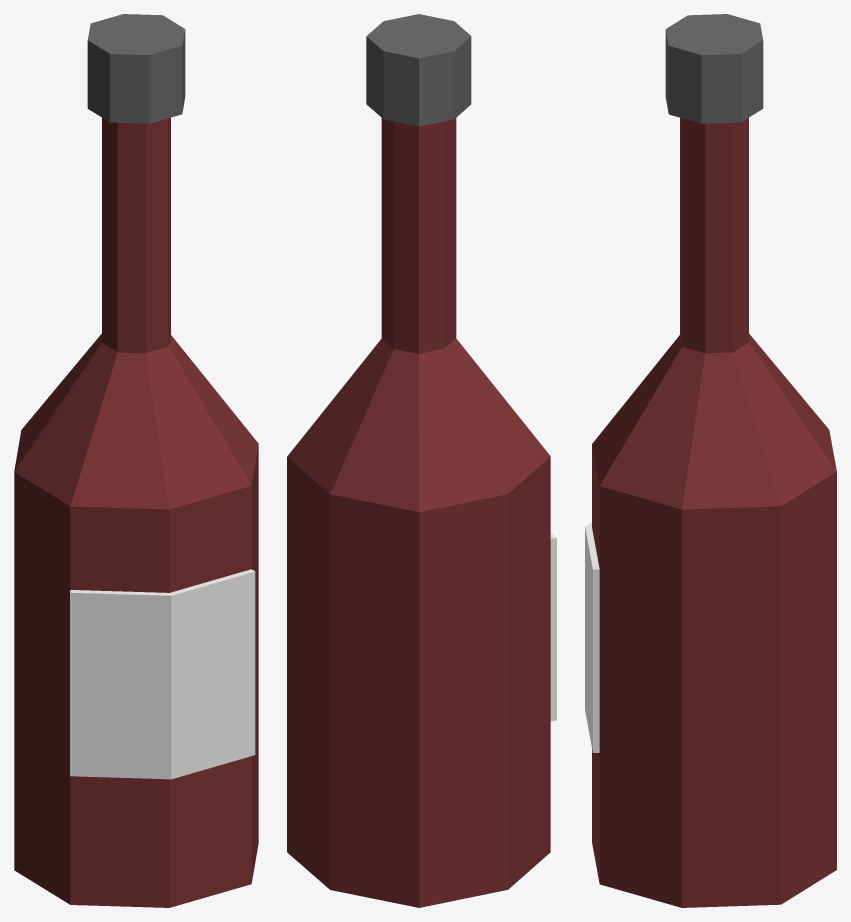
File: Wine_Bottle_1.fbx
3 renders of one model, left to right at view 1: azimuth 30°, elevation 25°; view 2: azimuth 150°, elevation 25°; view 3: azimuth 270°, elevation 25°, orthographic.
Visible parts, largest first — view 1: Wine_Bottle_1; view 2: Wine_Bottle_1; view 3: Wine_Bottle_1.
Boxes of the visible parts, bbox=[...] form: Wine_Bottle_1: bbox=[14, 14, 258, 907]; Wine_Bottle_1: bbox=[287, 14, 556, 907]; Wine_Bottle_1: bbox=[585, 14, 836, 907].
Size of the model in its own units: 10.31 by 10.6 by 38.16.
